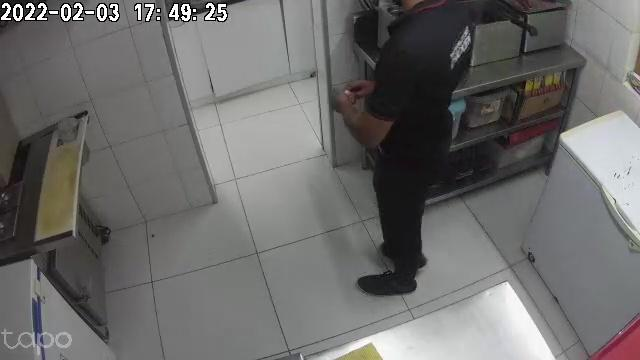no_gloves: (333, 86, 352, 119), (348, 77, 371, 98)
